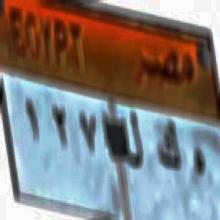1: (24, 93, 40, 148)
2: (51, 100, 69, 153)
7: (78, 110, 99, 158)
haa: (189, 138, 206, 185)
kaaf: (158, 115, 181, 182)
laam: (122, 105, 144, 178)
